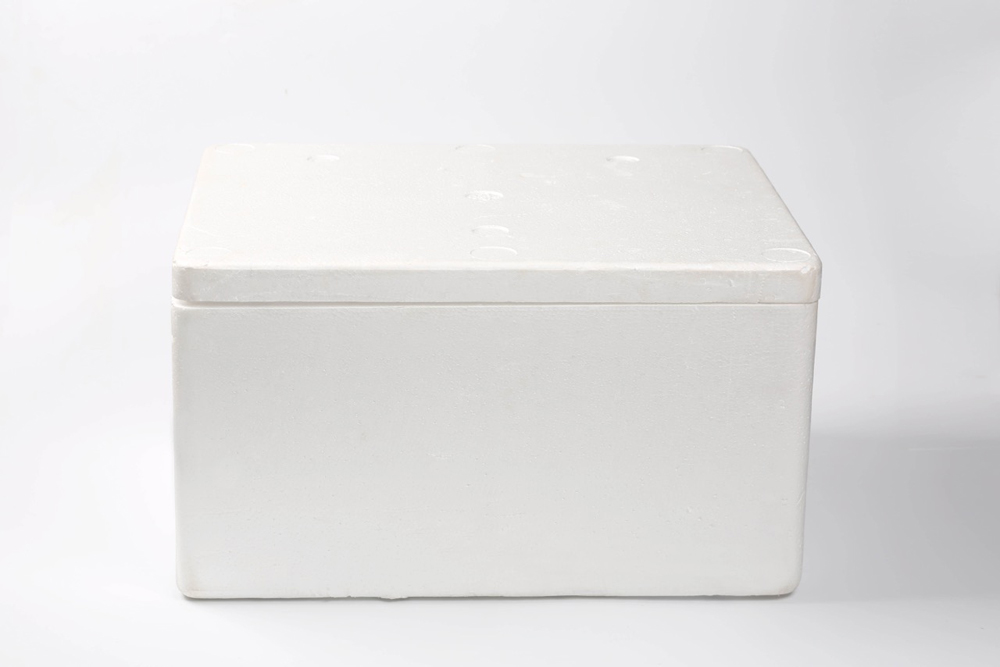Foam Box: (162, 136, 828, 613)
